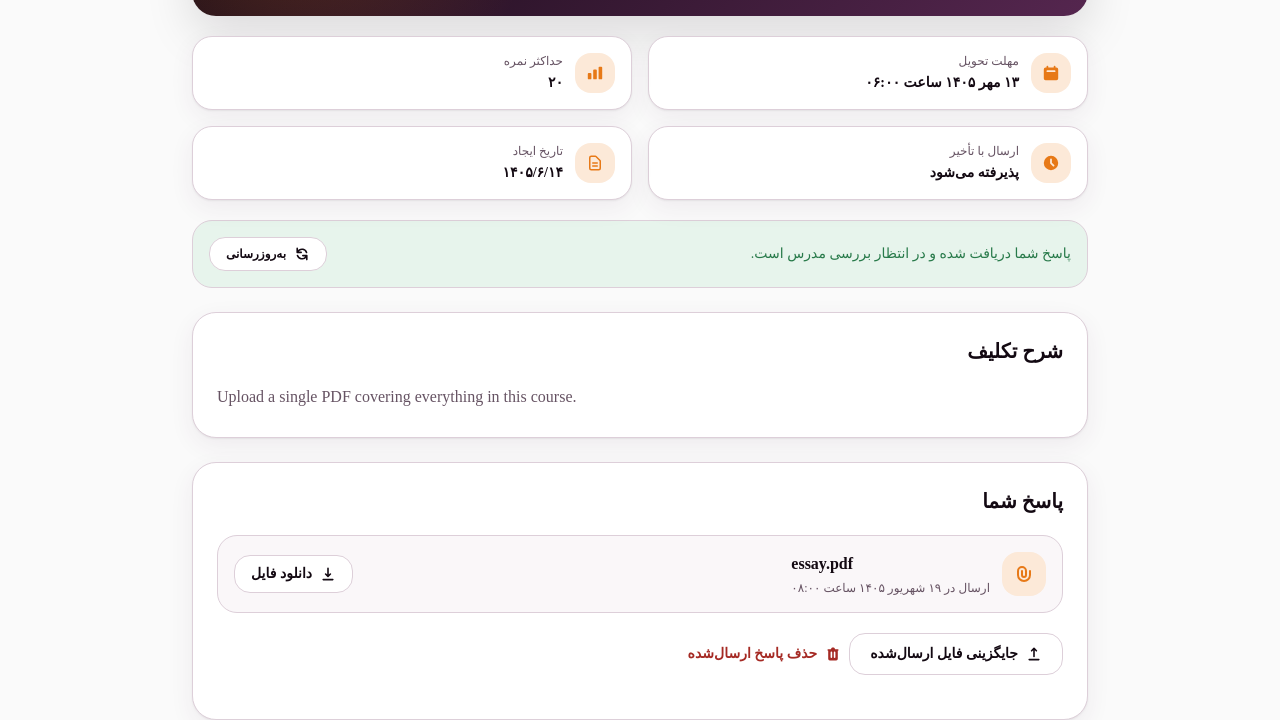
HomeworkDetailPage › deletes an ungraded submission only after confirmation
(page scrolled)
Click the button "حذف پاسخ ارسال‌شده" at x=764, y=654, box [680,640,849,668]
(page scrolled)
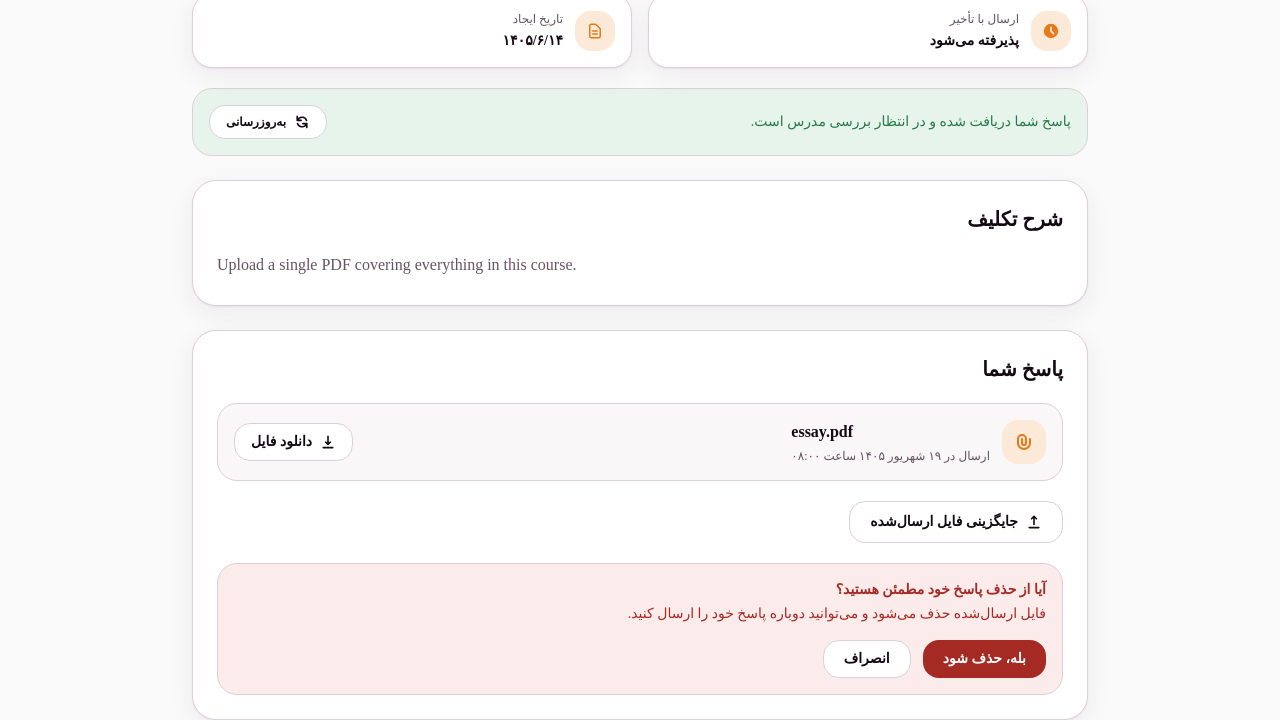
Click the button "بله، حذف شود" at x=984, y=658, box [923,640,1046,678]
(page scrolled)
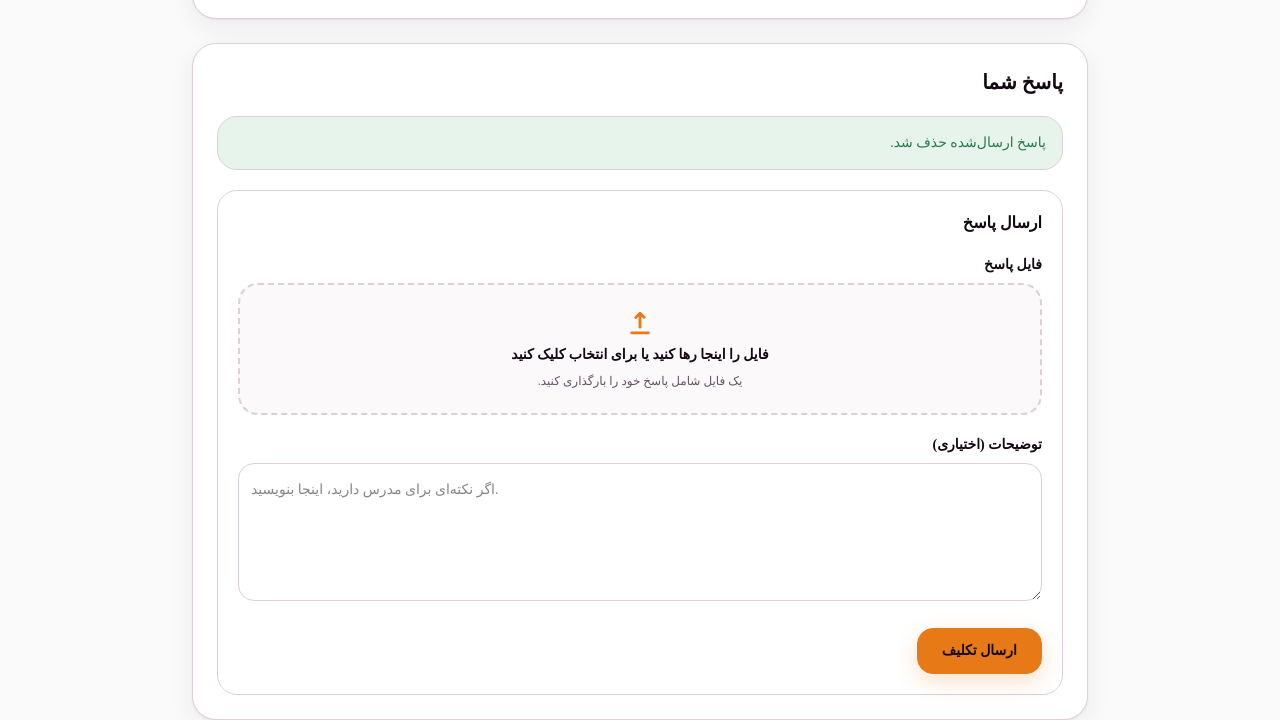
Result: the text "پاسخ ارسال‌شده حذف شد." is shown at [217,116,1063,170]
Result: the button "ارسال تکلیف" is shown at [917,628,1042,674]
